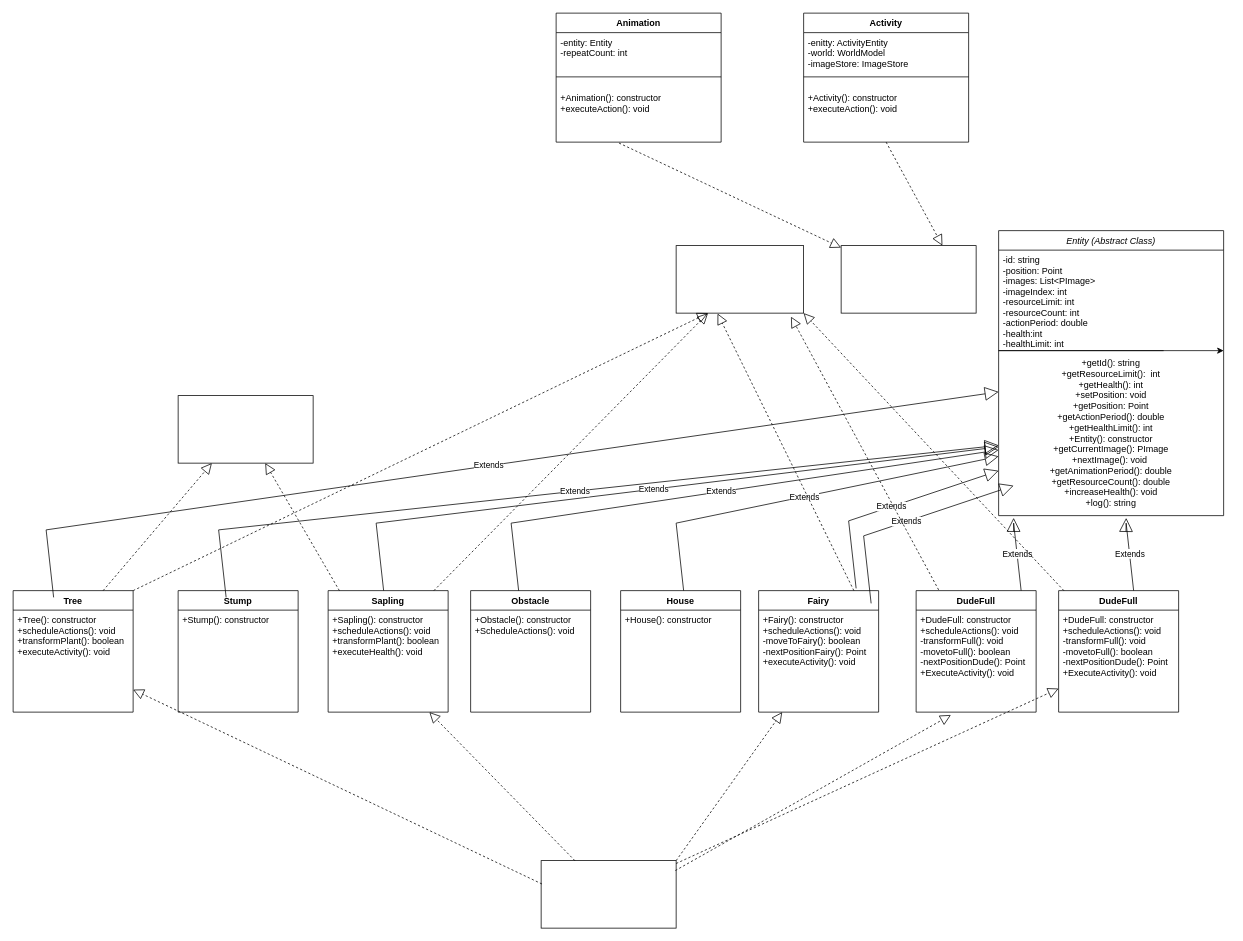
Some shapes in this 1243 by 941 pixel diagram are drawn without their labels. Each missing label, with the centre of its shape:
"Interface ActivityEntity executeActivity(): void" belongs at pixel 739 279.
"«interface» Action executeAction(): void" belongs at pixel 908 279.
"«interface» Plant transformPlant(): boolean" belongs at pixel 245 429.
"«interface» Schedules scheduleActions(): void" belongs at pixel 608 894.
